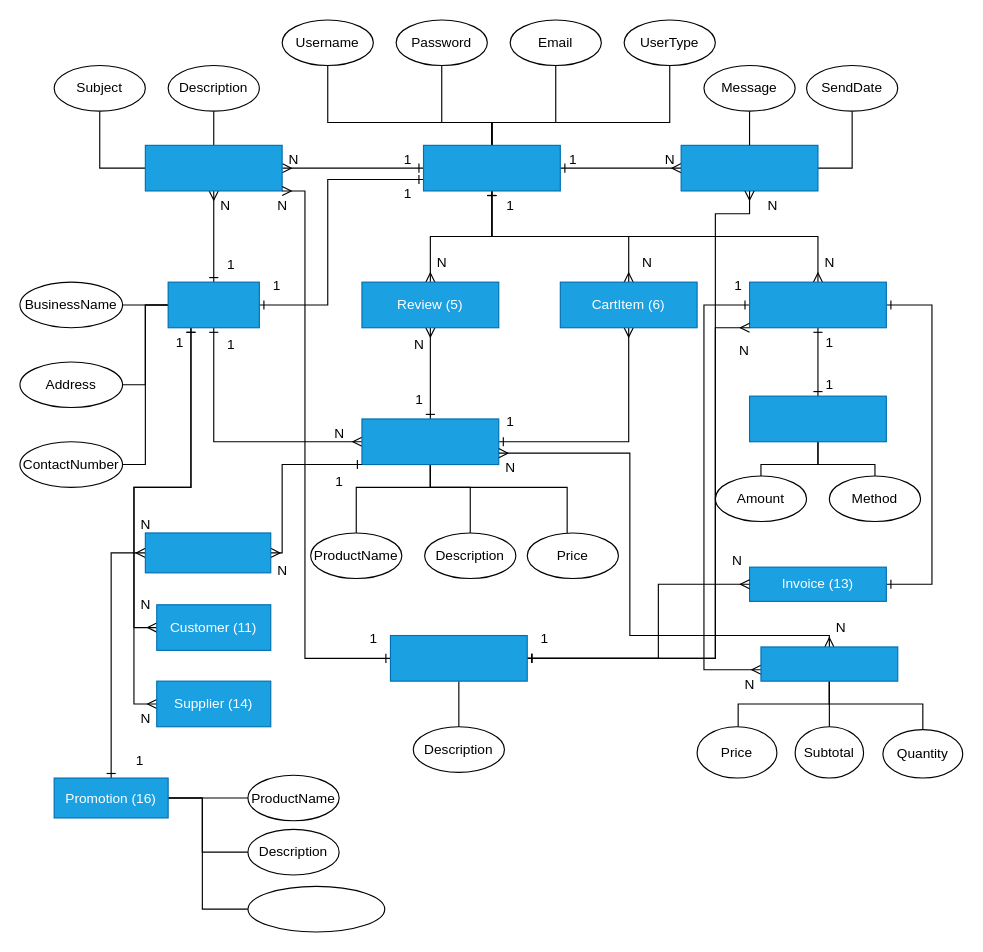
Some shapes in this 983 by 952 pixel diagram are drawn without their labels. The shapes that lost their labels are listed below. From the top down, each one's centre as x and y in pixels, then its label:
[213,167]: SupportTicket (1)
[491,167]: User (2)
[749,167]: Notification (3)
[213,304]: Business (4)
[817,304]: Order (7)
[817,418]: Payment (9)
[430,441]: Product (8)
[207,552]: PromotedProduct (10)
[458,657]: Status (12)
[829,663]: OrderItem (15)
[316,908]: DiscountPercentage
